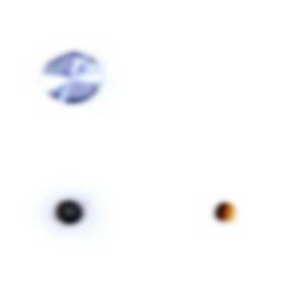abnormal: (34, 38, 114, 111)
cancer: (33, 184, 99, 246)
normal: (203, 190, 245, 230)
